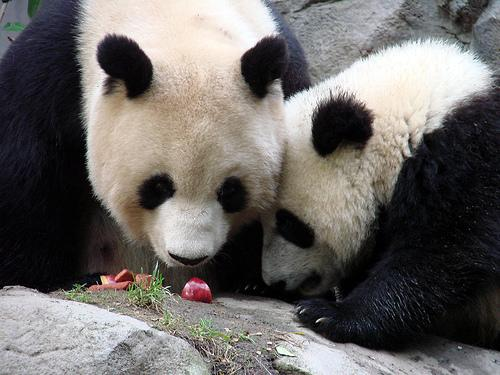panda: (0, 0, 499, 349)
